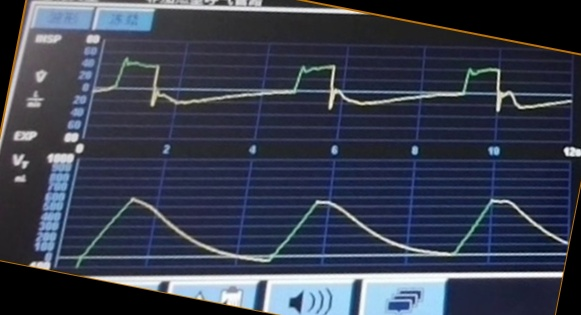Premature_cycling Flow: (101, 51, 558, 135)
Premature_cycling Volume: (75, 191, 563, 265)
